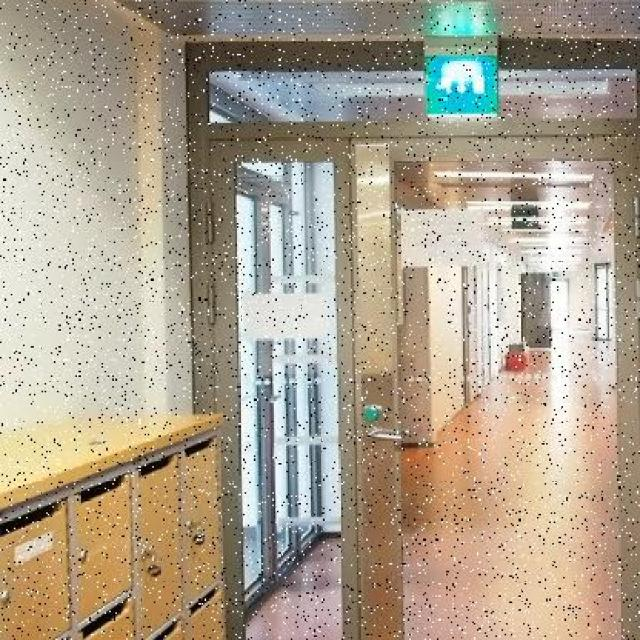emergency_exit: (421, 0, 501, 119), (424, 51, 500, 118)
